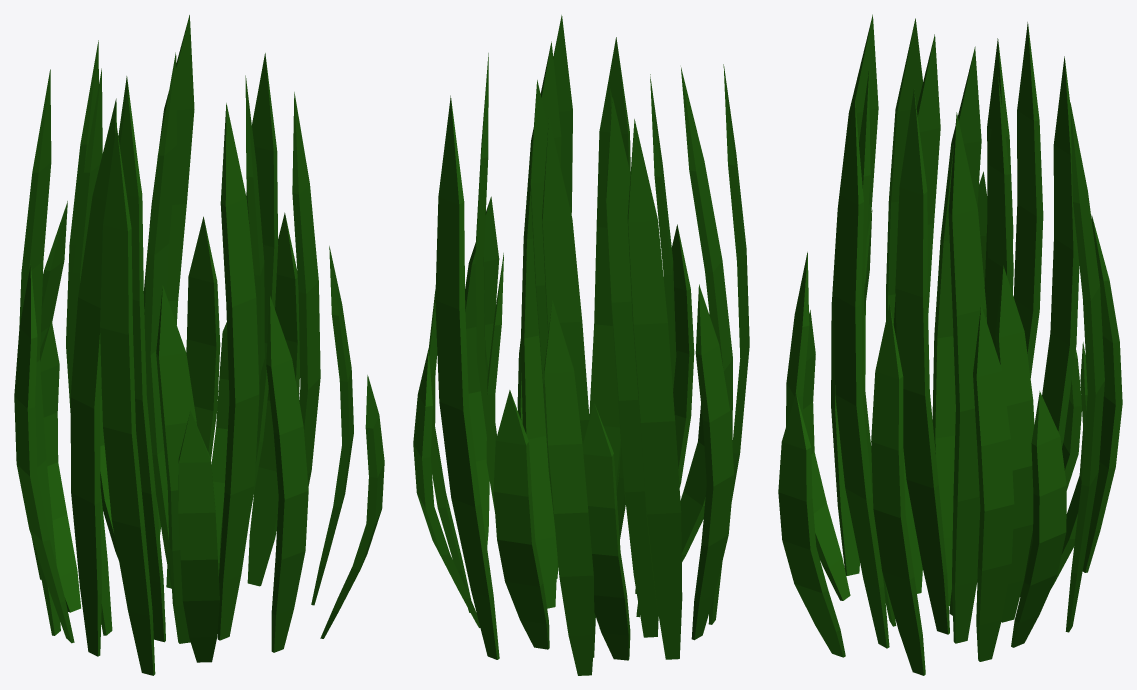
The model's file is haut tas d_herbe .fbx.
The picture shows the model from 3 angles, left to right: view 1: azimuth 30°, elevation 25°; view 2: azimuth 150°, elevation 25°; view 3: azimuth 270°, elevation 25°; orthographic projection.
Parts seen in each view (by area): view 1: haut tah d'herbe; view 2: haut tah d'herbe; view 3: haut tah d'herbe.
Part boxes in pixels (bbox=[...]): haut tah d'herbe: bbox=[14, 15, 384, 675]; haut tah d'herbe: bbox=[413, 15, 749, 675]; haut tah d'herbe: bbox=[778, 14, 1122, 675].
Size of the model in its own units: 67.6 by 120 by 66.85.
